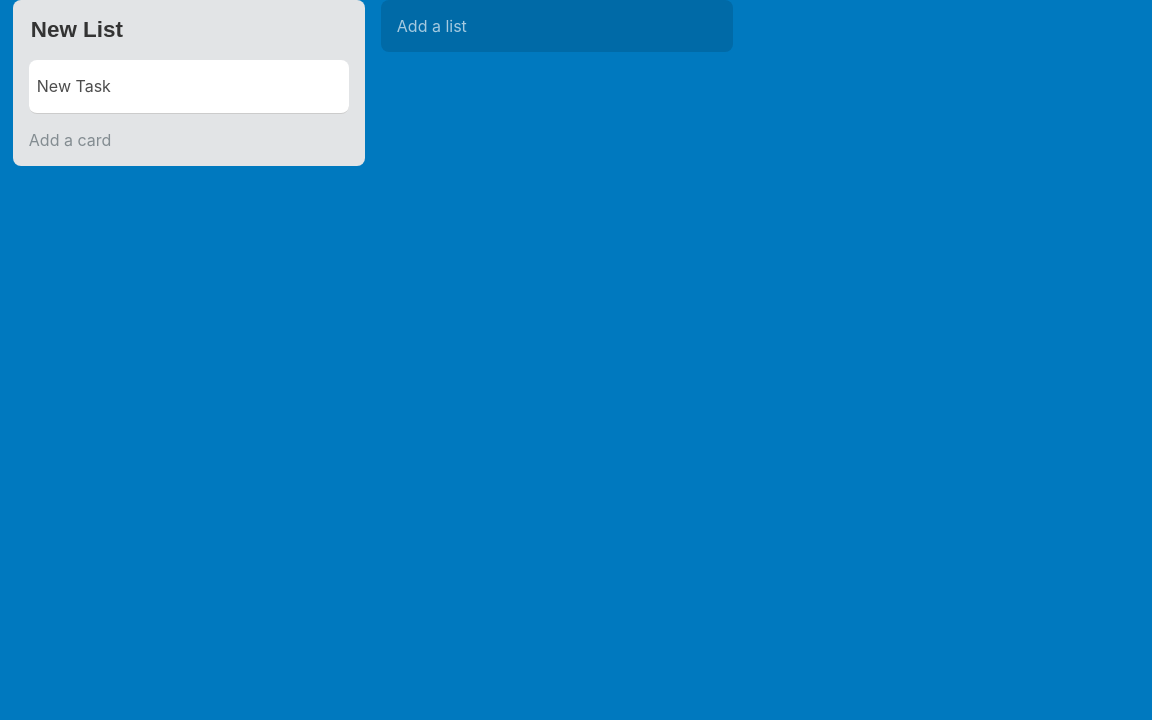
Scenario: user behavior › modal display › closes modal on close button click
This screenshot has width=1152, height=720.
Click the text "New Task" at (74, 86), box [37,76,111,96]
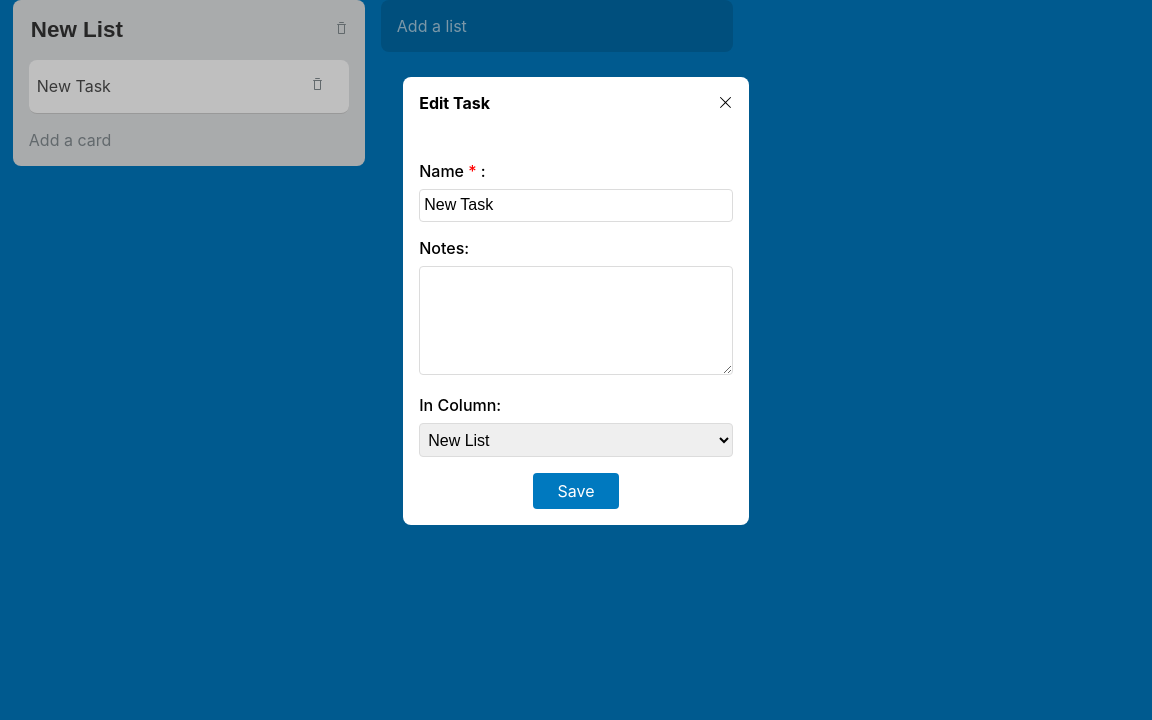
Click the button titled "Close Edit Task Dialog" at (725, 103), box [718,95,733,110]
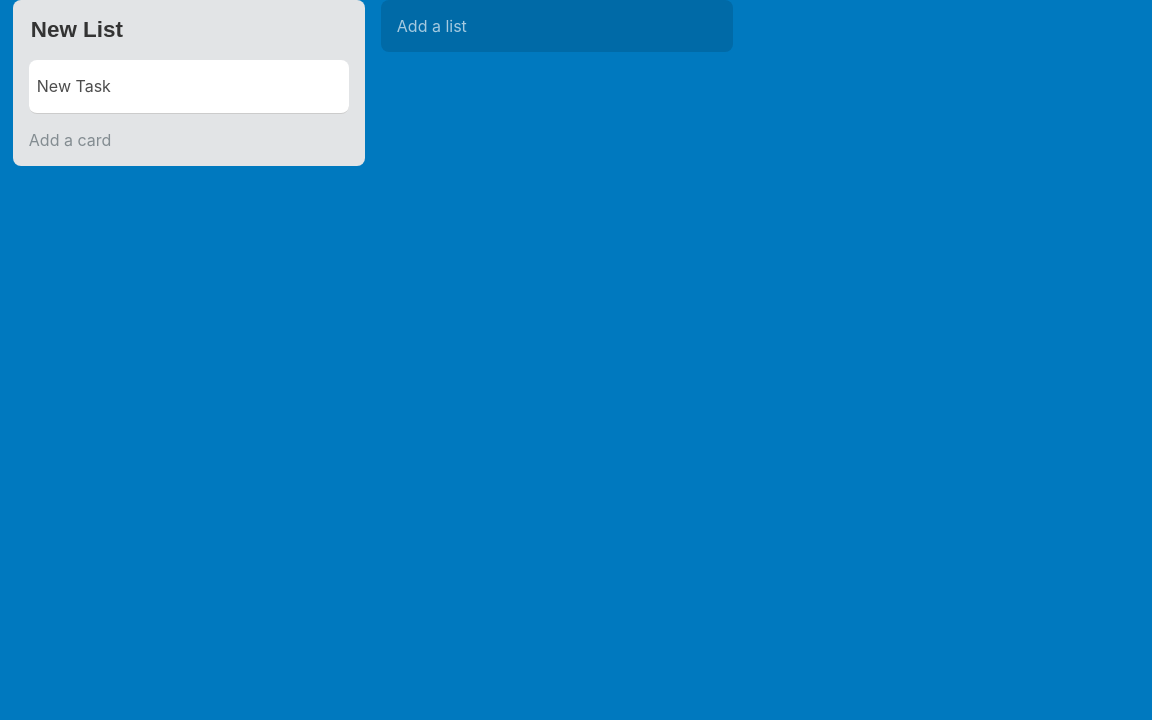
Expected: the heading "Edit Task" is gone
